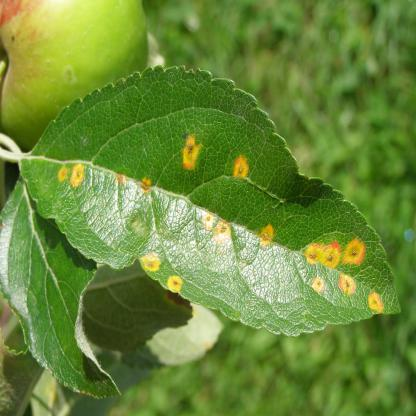Apple rust leaf: (22, 78, 401, 341)
